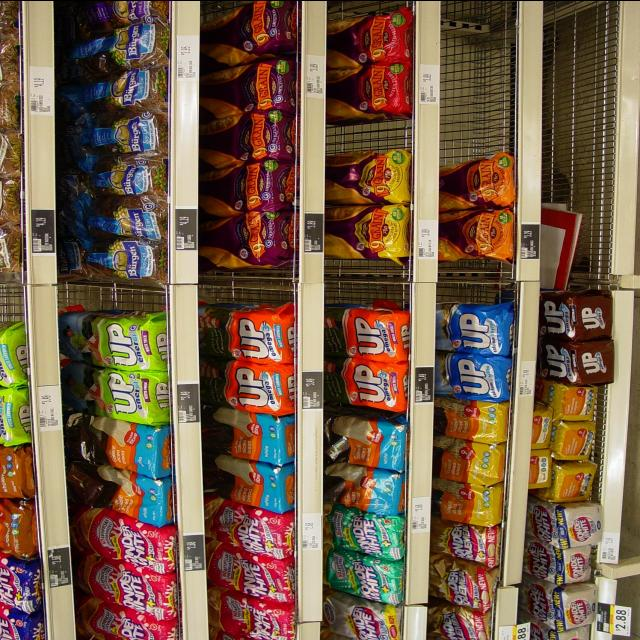empty_space: (542, 13, 620, 199), (441, 4, 514, 152), (208, 268, 292, 299), (335, 266, 407, 298), (454, 265, 512, 302), (72, 285, 168, 307), (327, 124, 405, 150)
